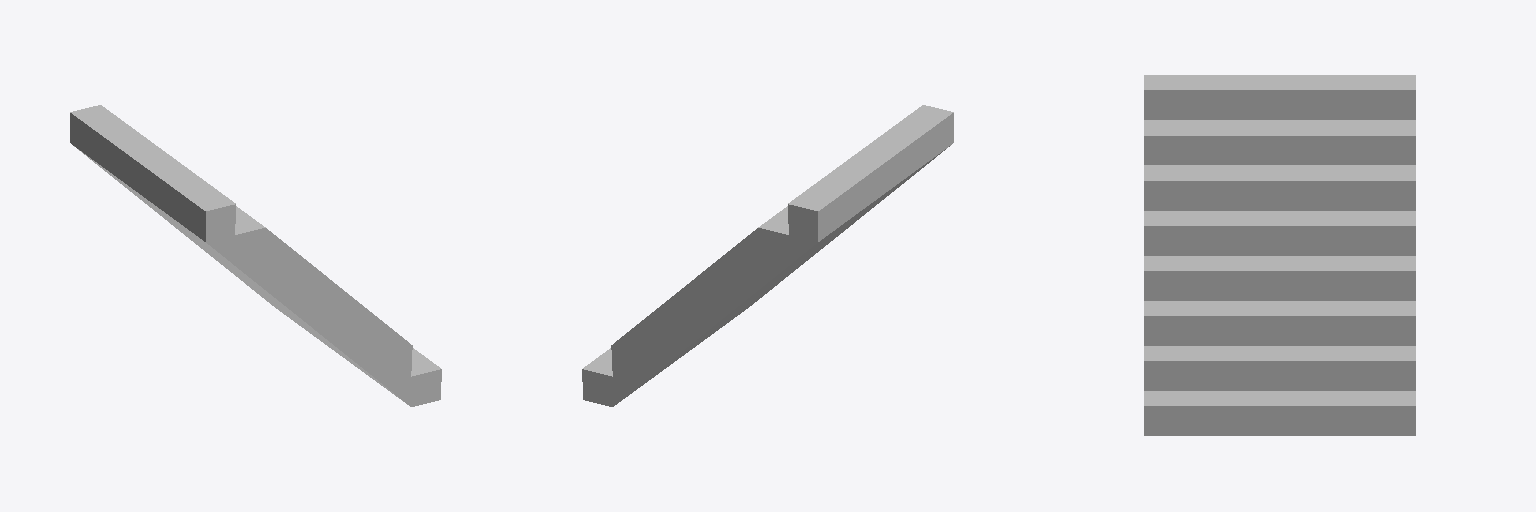
Rendered from indoor_stairs_wide.obj.
3 renders of one model, left to right at view 1: azimuth 30°, elevation 25°; view 2: azimuth 150°, elevation 25°; view 3: azimuth 270°, elevation 25°, orthographic.
Parts seen in each view (by area): view 1: Cube_Cube.001; view 2: Cube_Cube.001; view 3: Cube_Cube.001.
Part boxes in pixels (x1,y1,x2,y2): Cube_Cube.001: (70,105,441,406); Cube_Cube.001: (582,105,953,406); Cube_Cube.001: (1144,75,1415,435).
Bounding box in the file's own units: 2.01 × 2 × 2.